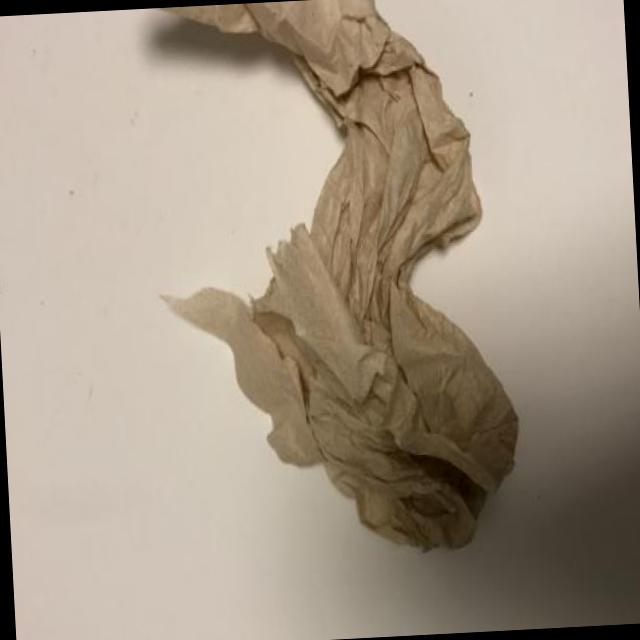Recycle: (161, 0, 521, 566)
